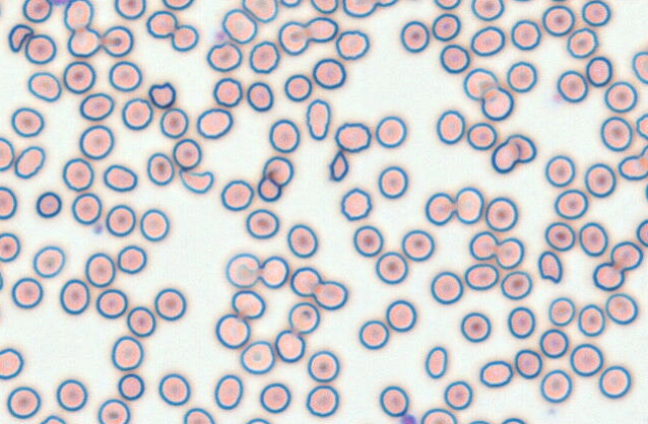PLT: (399, 412, 419, 424), (51, 0, 66, 8)
RBC: (221, 8, 257, 44), (225, 252, 260, 288), (215, 313, 250, 349), (78, 124, 114, 159), (239, 340, 275, 374), (480, 86, 513, 121), (463, 67, 498, 100), (6, 386, 41, 419), (485, 196, 518, 231), (196, 107, 232, 139), (584, 162, 616, 198), (334, 121, 371, 152), (454, 186, 484, 224), (62, 60, 95, 94), (305, 384, 339, 417), (539, 369, 572, 403), (569, 343, 603, 376), (598, 365, 631, 399), (111, 335, 143, 370), (286, 223, 318, 258), (268, 118, 300, 153), (600, 116, 632, 151), (59, 278, 90, 314), (305, 98, 331, 140), (430, 271, 463, 304), (375, 251, 408, 284), (32, 245, 65, 278), (306, 349, 339, 382), (605, 292, 638, 325), (340, 187, 372, 221), (220, 179, 254, 211), (62, 157, 94, 191), (312, 57, 346, 89), (154, 287, 186, 321), (278, 20, 309, 55), (84, 252, 115, 287), (470, 25, 505, 56), (553, 188, 588, 219), (248, 40, 280, 73), (401, 229, 434, 261), (288, 301, 320, 334), (121, 97, 153, 130), (556, 69, 588, 102), (158, 373, 190, 406), (604, 80, 637, 112), (375, 115, 407, 148), (424, 191, 455, 225), (67, 26, 101, 57), (27, 71, 61, 102), (108, 60, 142, 91), (245, 208, 279, 239), (335, 29, 369, 60), (10, 106, 44, 137), (541, 5, 575, 36), (377, 165, 408, 199), (312, 280, 347, 310), (578, 221, 608, 256), (214, 374, 243, 410), (101, 25, 133, 57), (258, 255, 289, 288), (274, 329, 305, 362), (352, 224, 383, 257), (14, 145, 45, 178), (610, 240, 643, 271), (71, 192, 102, 225), (56, 378, 87, 411), (544, 154, 575, 187), (385, 299, 416, 332), (231, 289, 265, 319), (79, 92, 114, 121), (436, 109, 465, 144), (24, 33, 56, 64), (95, 288, 127, 319), (11, 277, 43, 308), (506, 60, 537, 92), (259, 382, 291, 413), (566, 27, 598, 58), (105, 204, 136, 236), (139, 208, 169, 241), (103, 163, 137, 192), (262, 155, 293, 186), (510, 19, 541, 50), (460, 311, 491, 342), (290, 266, 322, 296), (494, 237, 524, 269), (592, 261, 624, 291), (500, 270, 532, 300), (379, 385, 409, 417), (479, 359, 513, 387), (464, 263, 499, 290), (63, 0, 93, 31), (439, 43, 470, 73), (358, 319, 389, 349), (544, 221, 575, 251), (126, 305, 155, 337), (400, 20, 429, 52), (146, 152, 174, 185), (577, 303, 605, 336), (468, 230, 498, 260), (212, 77, 242, 107), (172, 138, 201, 169), (159, 107, 188, 138), (491, 141, 519, 173), (145, 10, 177, 38), (507, 306, 535, 338), (117, 244, 146, 274), (539, 328, 568, 358), (443, 380, 472, 410), (466, 122, 497, 150), (514, 348, 542, 379), (305, 16, 338, 42), (585, 56, 612, 87), (97, 398, 130, 423), (283, 73, 312, 101), (431, 13, 460, 41), (548, 296, 575, 326), (246, 81, 273, 111), (242, 0, 278, 22), (617, 154, 647, 180), (581, 0, 611, 26), (0, 347, 24, 379), (424, 346, 447, 379), (171, 24, 199, 51), (117, 373, 144, 400), (35, 191, 61, 218), (471, 0, 504, 21), (22, 0, 52, 22), (0, 232, 20, 262), (342, 0, 377, 17), (420, 407, 457, 423), (114, 0, 145, 19), (0, 186, 17, 219), (631, 50, 647, 84), (183, 407, 215, 423), (0, 136, 14, 171), (310, 0, 338, 14), (635, 112, 647, 140), (161, 0, 194, 10), (636, 218, 647, 247), (433, 0, 461, 10), (638, 144, 648, 169), (39, 414, 66, 423), (245, 417, 270, 423), (500, 417, 525, 423), (377, 0, 398, 7), (280, 0, 301, 7), (467, 419, 491, 424), (644, 182, 648, 202), (0, 301, 3, 327), (0, 270, 3, 291), (548, 0, 572, 2), (511, 0, 533, 2)
Schistocyte: (206, 42, 243, 73), (179, 169, 215, 194), (539, 248, 563, 284), (508, 134, 537, 162), (148, 82, 176, 109), (9, 24, 33, 53), (330, 150, 349, 182), (258, 178, 283, 202)
